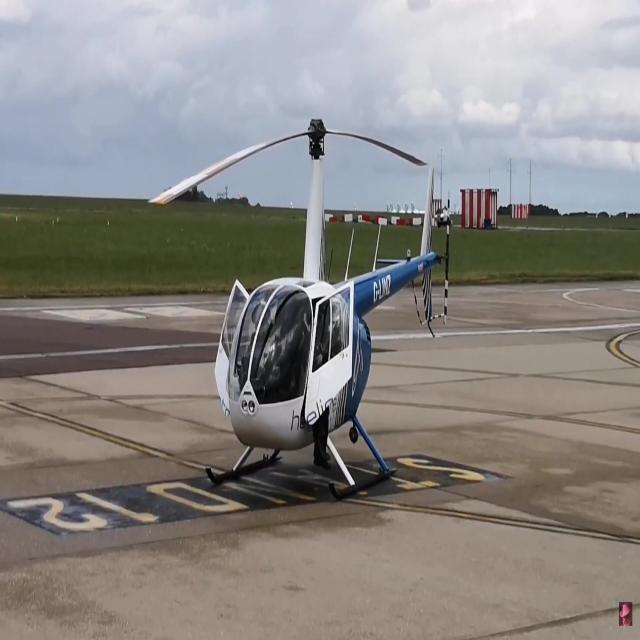CIV_HELO: (203, 115, 442, 502)
